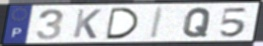3: (35, 8, 66, 41)
5: (218, 6, 250, 38)
D: (104, 7, 141, 41)
I: (148, 6, 166, 40)
K: (71, 8, 103, 40)
Q: (181, 7, 213, 39)
